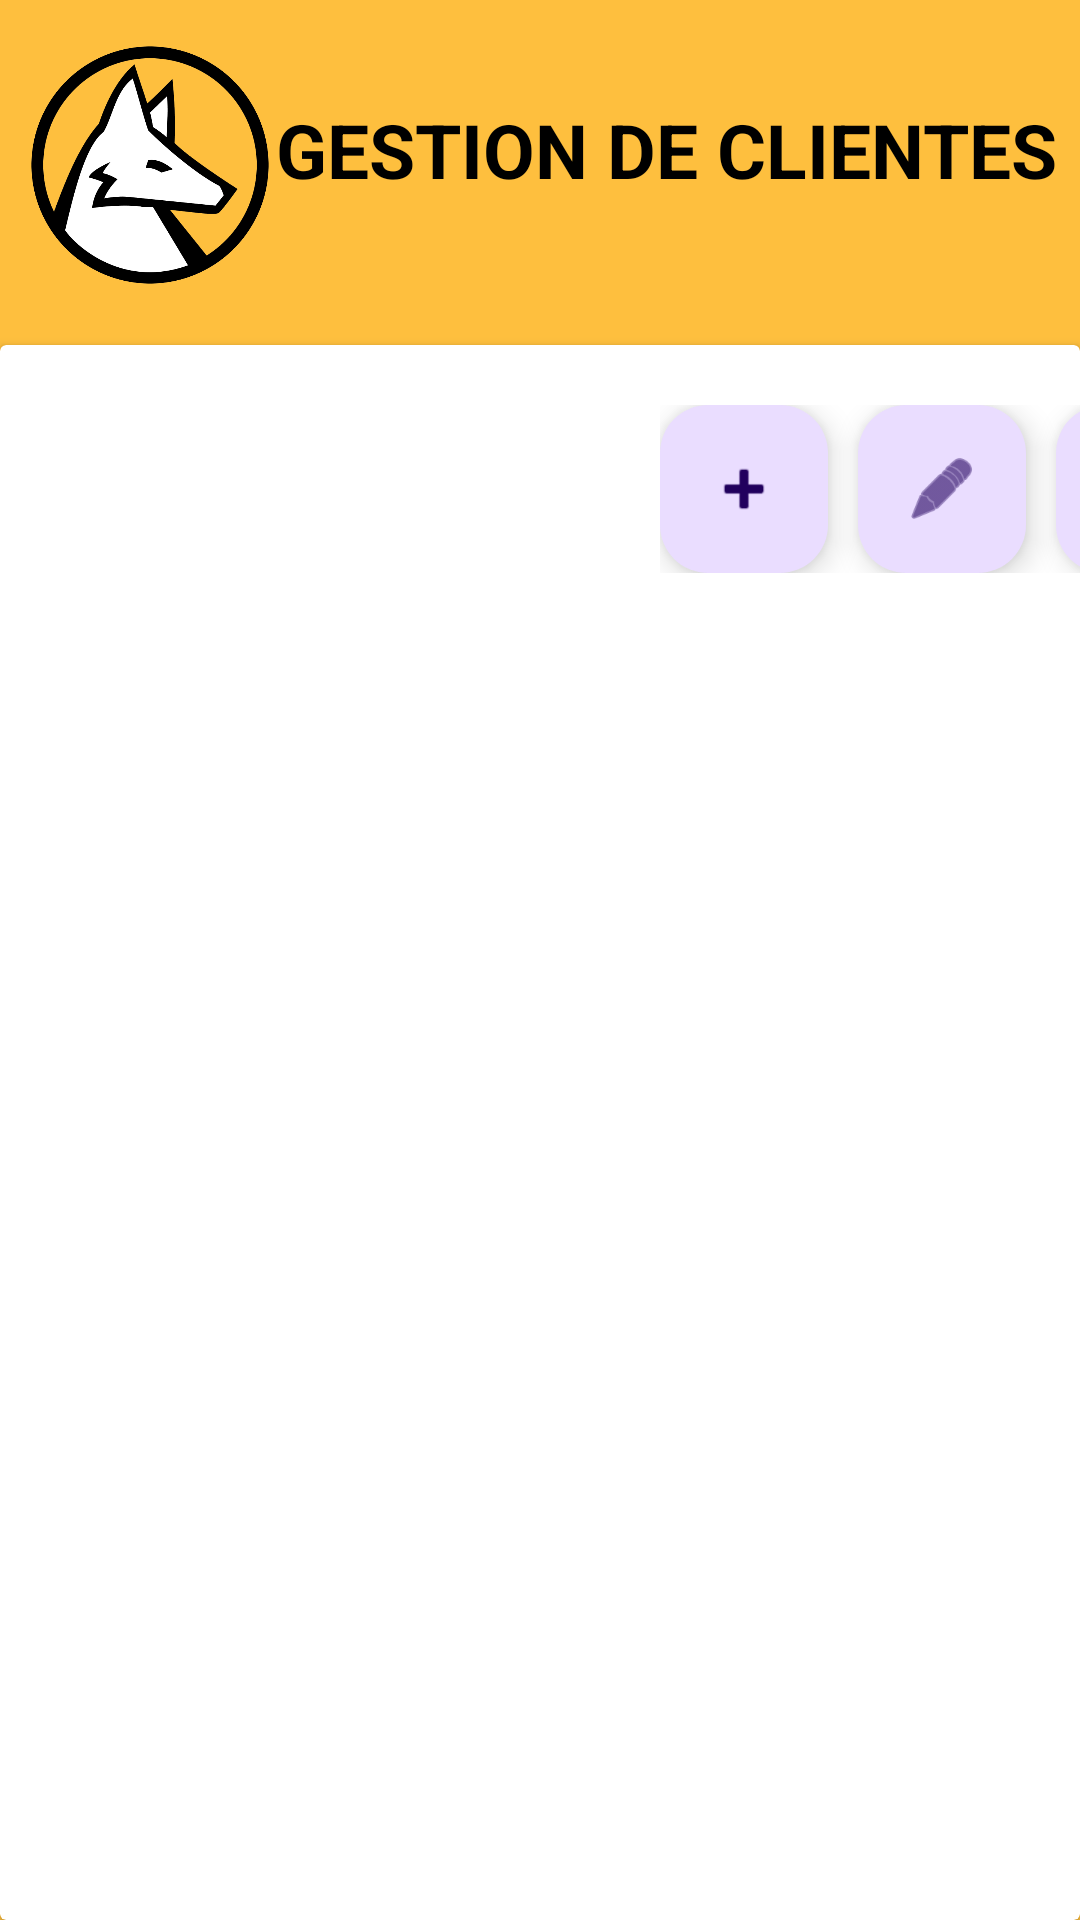

Where icons sit on this 1080x1920 app screen, as (x1, y1, x2, y2):
add: (660, 405, 828, 573)
edit: (858, 405, 1026, 573)
